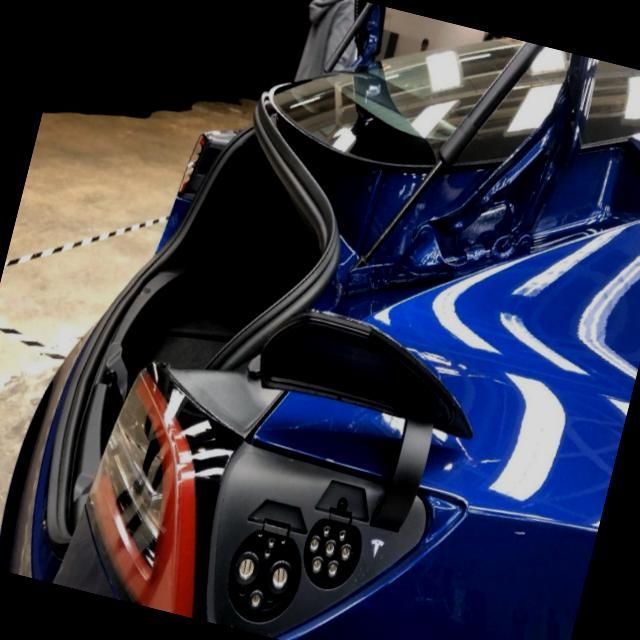GB-T: (213, 526, 307, 635)
